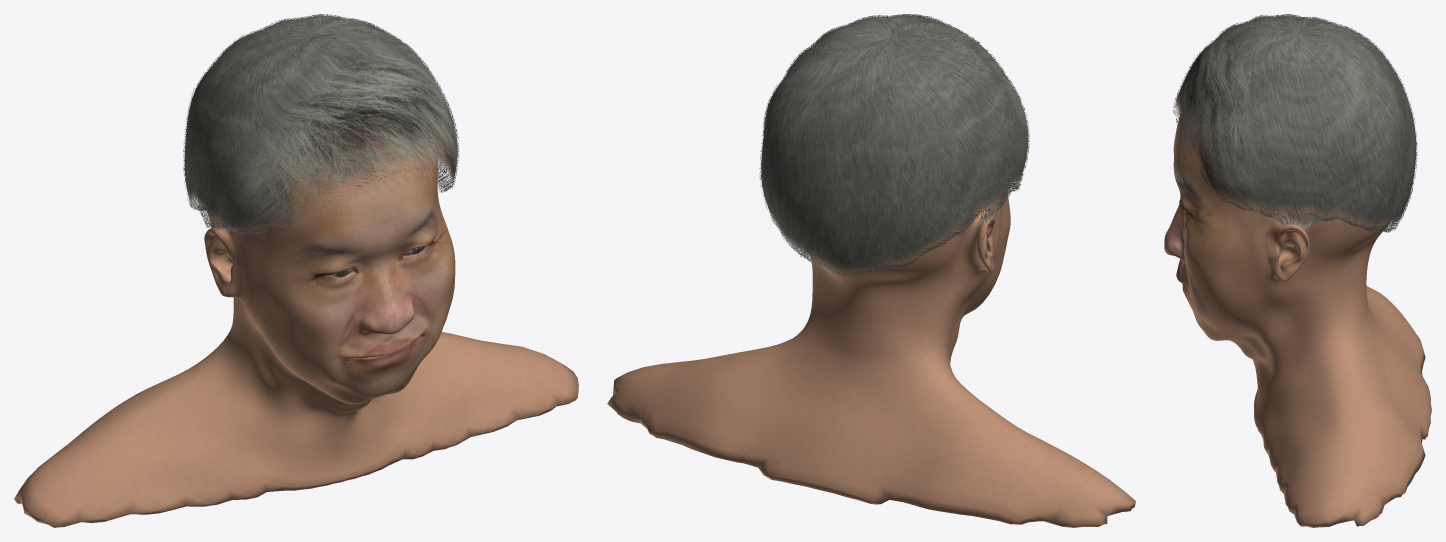
File: director_wu.glb
3 renders of one model, left to right at view 1: azimuth 30°, elevation 25°; view 2: azimuth 150°, elevation 25°; view 3: azimuth 270°, elevation 25°, orthographic. The views are drawn at different scales.
Visible parts, largest first — view 1: anatomy_head_and_neck, detail_hair_foundation, detail_short_silver_groom; view 2: anatomy_head_and_neck, detail_hair_foundation, detail_short_silver_groom; view 3: anatomy_head_and_neck, detail_hair_foundation, detail_short_silver_groom.
Boxes of the visible parts, x1,y1,x2,y2 form: anatomy_head_and_neck: (14,154,578,527); detail_hair_foundation: (184,15,457,229); detail_short_silver_groom: (183,14,459,234); anatomy_head_and_neck: (607,193,1135,527); detail_hair_foundation: (761,15,1028,271); detail_short_silver_groom: (759,14,1029,275); anatomy_head_and_neck: (1164,115,1431,527); detail_hair_foundation: (1175,15,1416,227); detail_short_silver_groom: (1173,14,1417,232).
Bounding box in the file's own units: 1 × 0.763 × 0.4791.
Materials: 5 (3 with a texture image).
